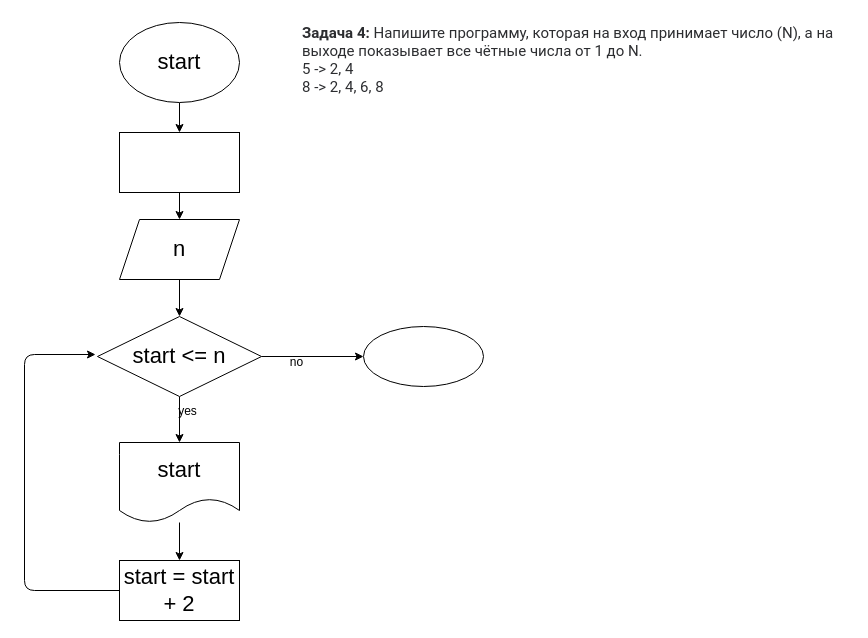
This 868x638 diagram has some shape labels left out. The shapes that lost their labels are listed below. From the top down, each one's centre as x and y in pixels, then its label:
[179,162]: start =2
[423,356]: end
